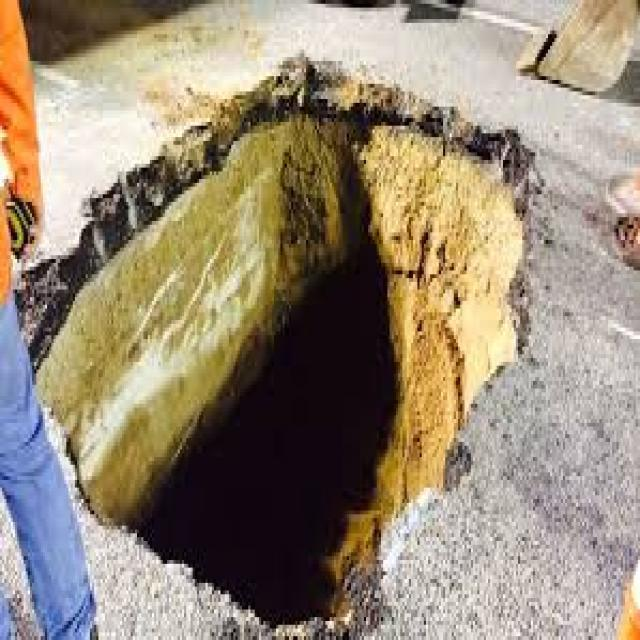pothole: (41, 41, 536, 624)
